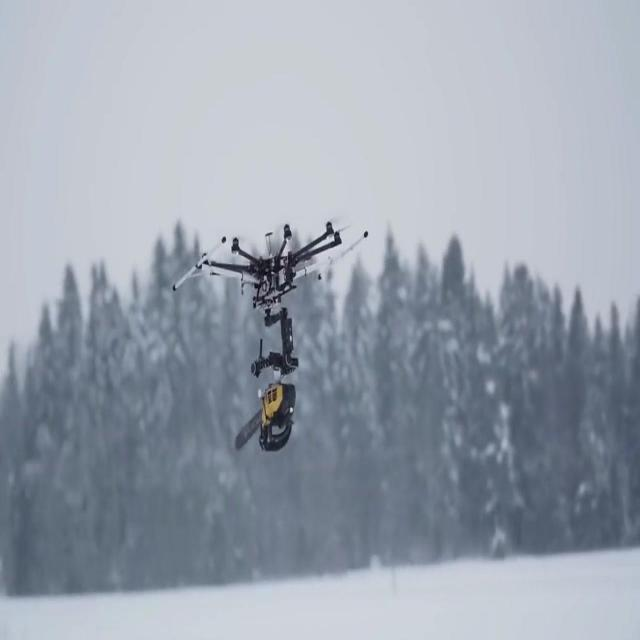UAV: (172, 218, 368, 327)
